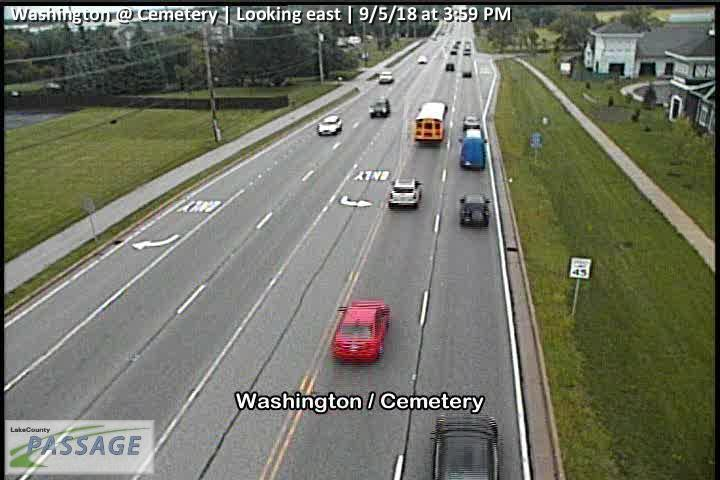SUV: (429, 414, 498, 480), (331, 298, 392, 364), (388, 177, 422, 208), (460, 193, 491, 226), (317, 115, 342, 135), (368, 95, 390, 117)
Sedan: (377, 71, 393, 85)
Truck: (413, 101, 447, 146), (459, 114, 485, 169)
